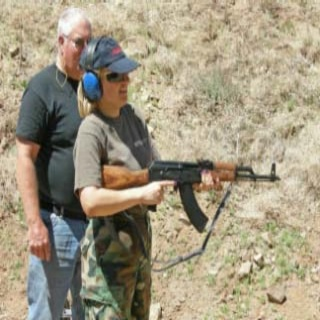rifle: (95, 155, 285, 233)
